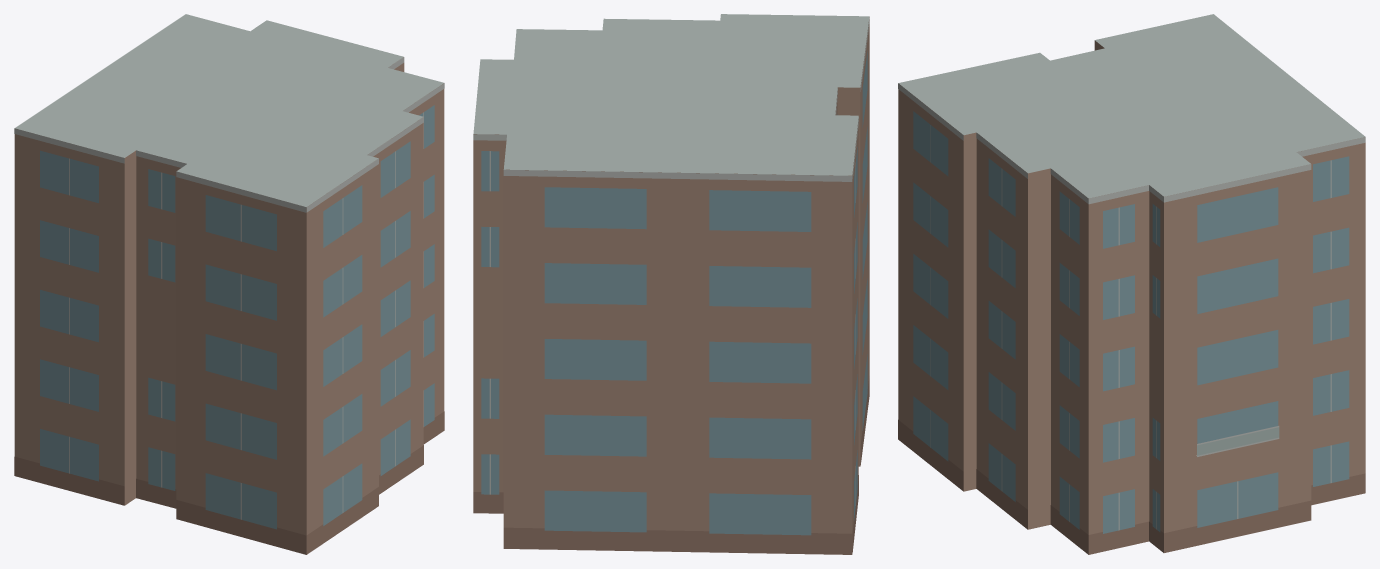
Rendered from survey-upis-32594508.glb.
3 views of the same model, side by side, from view 1: azimuth 30°, elevation 25°; view 2: azimuth 150°, elevation 25°; view 3: azimuth 270°, elevation 25° (orthographic). The views are drawn at different scales.
Visible parts, largest first — view 1: survey-upis-32594508.tmp; view 2: survey-upis-32594508.tmp; view 3: survey-upis-32594508.tmp.
Part boxes in pixels (<box>): survey-upis-32594508.tmp: <box>14,14,444,554</box>; survey-upis-32594508.tmp: <box>473,14,869,554</box>; survey-upis-32594508.tmp: <box>898,14,1365,554</box>.
Bounding box in the file's own units: 16.55 × 14.9 × 17.72.
